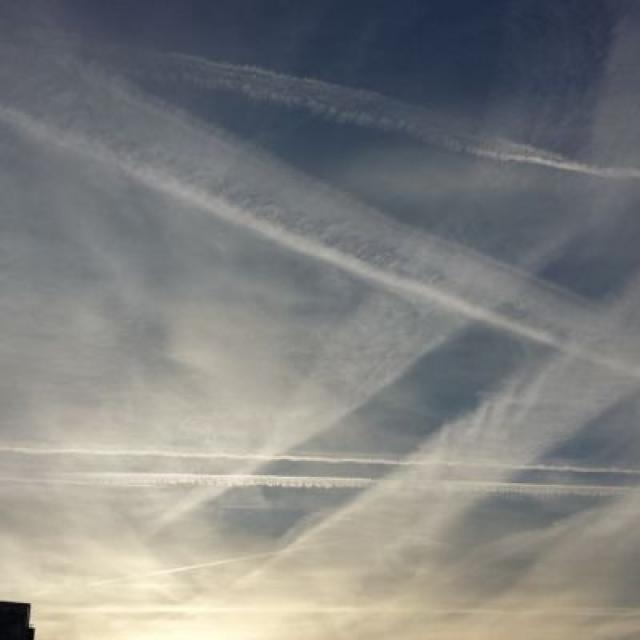Ct: (1, 23, 640, 505)
